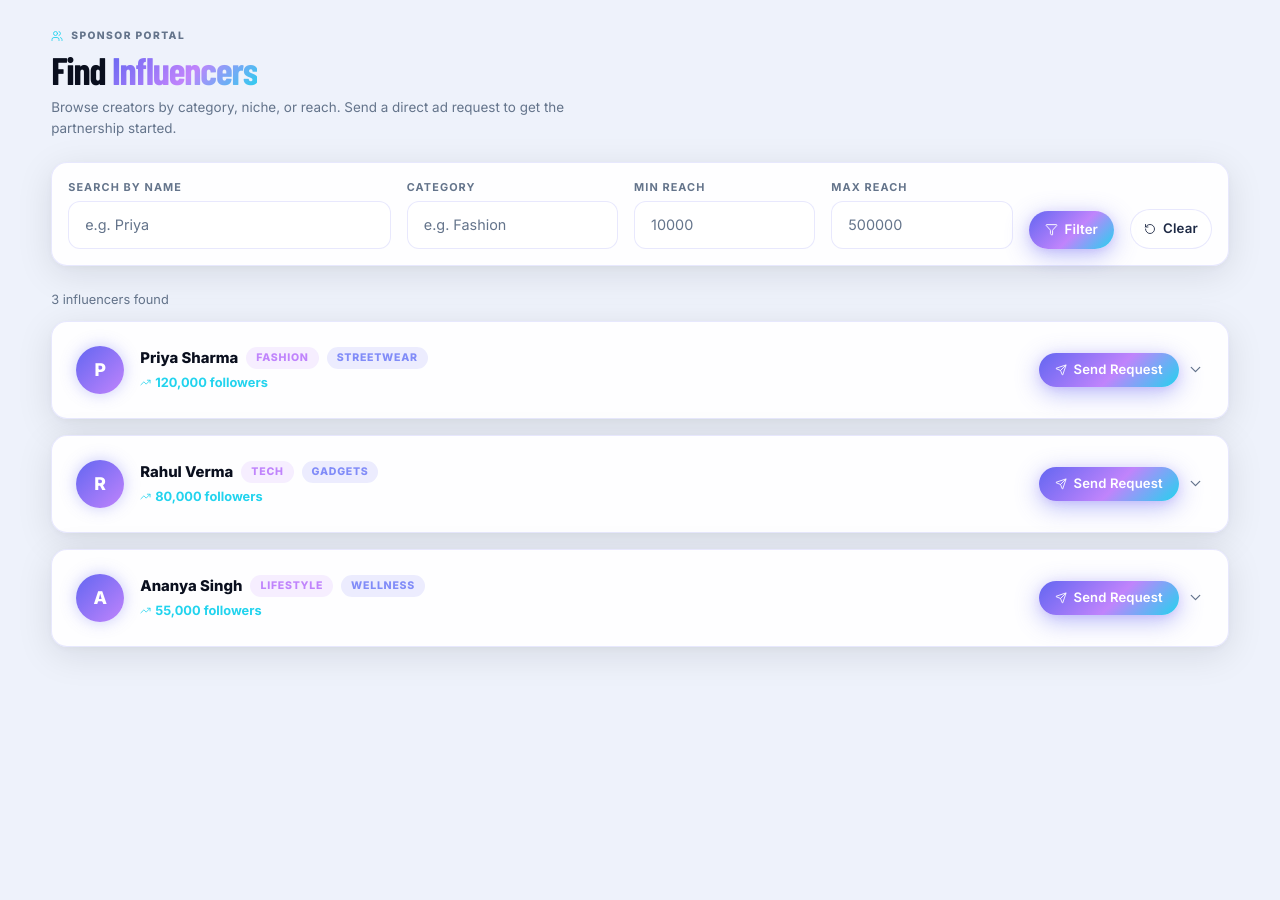
Scenario: InfluencerDirectory › collapses card when clicked again
Click the text "Priya Sharma" at (189,358), box [140,347,238,369]
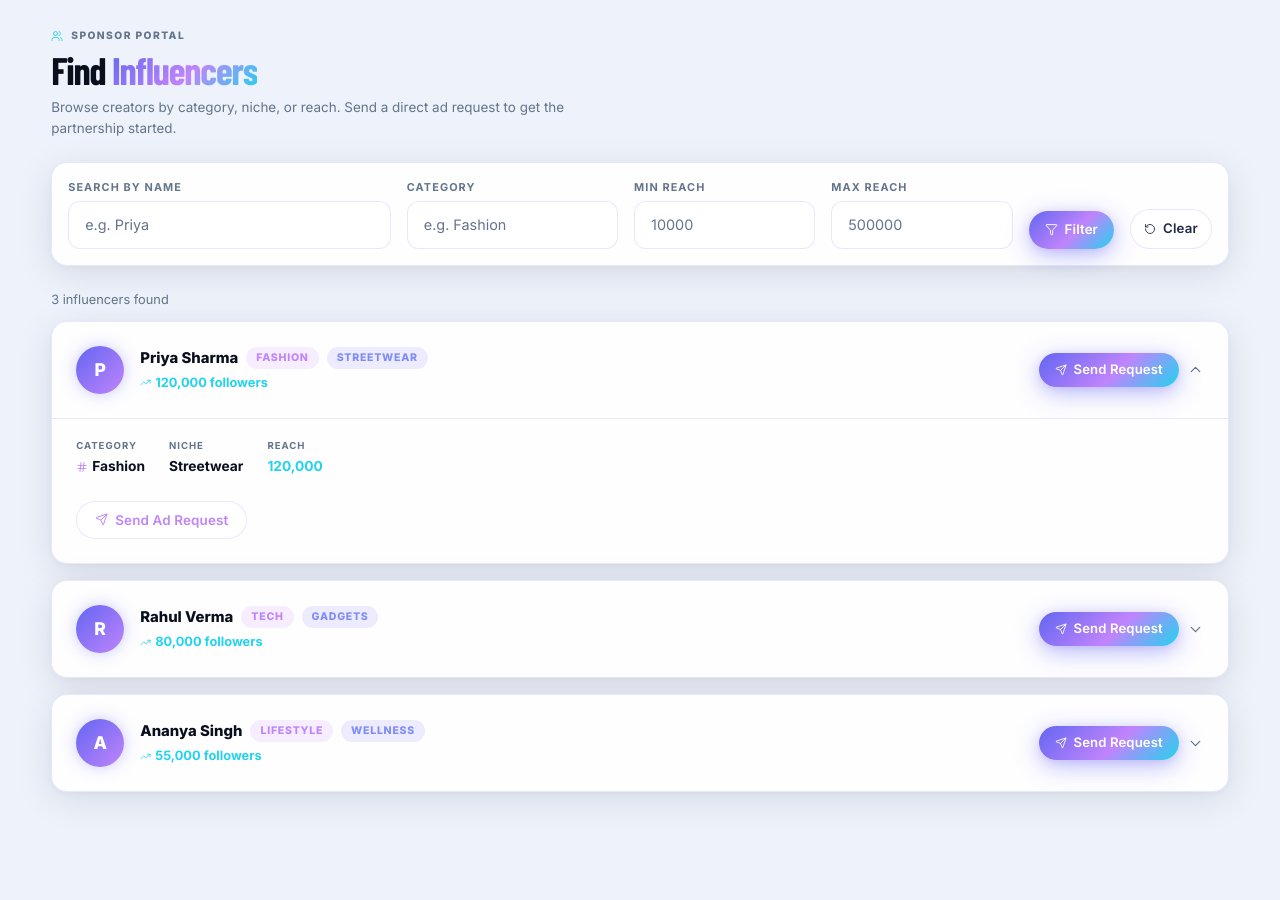
Now the button "Send Ad Request" is shown, box [76,501,248,539]
Click the text "Priya Sharma" at (189,358), box [140,347,238,369]
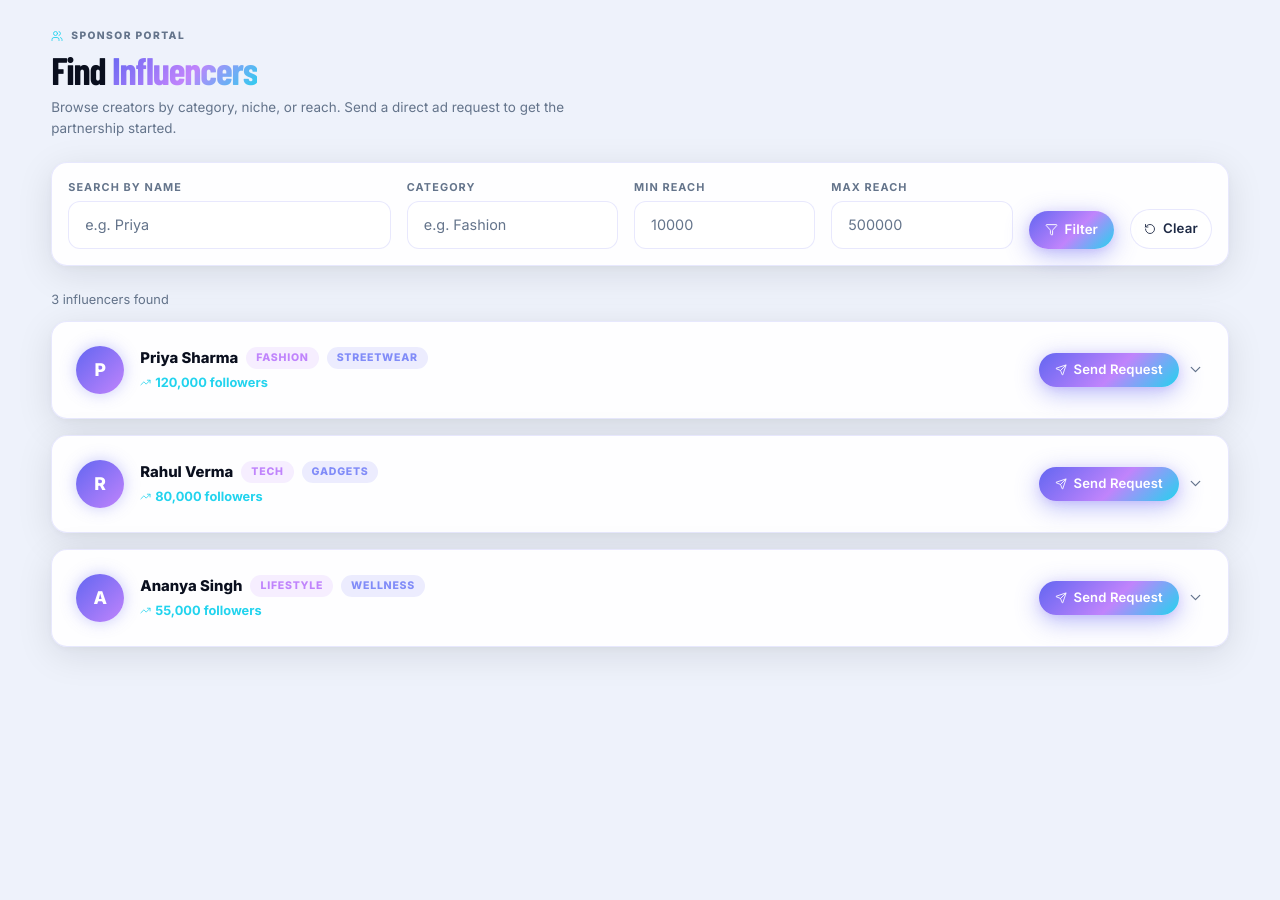
Now the button "Send Ad Request" is gone
